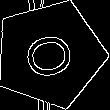O_E: (18, 26, 82, 83)
